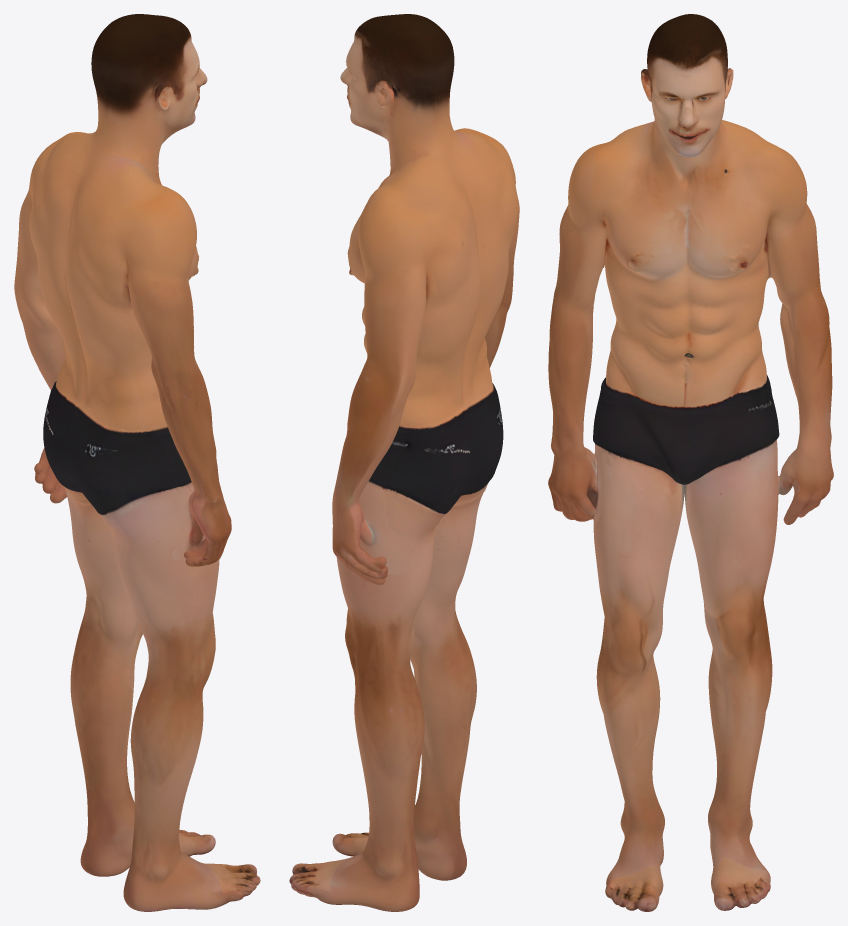
Rendered from TEST_BOI_3D_01.glb.
3 views of the same model, side by side, from view 1: azimuth 30°, elevation 25°; view 2: azimuth 150°, elevation 25°; view 3: azimuth 270°, elevation 25° (orthographic). The views are drawn at different scales.
Visible parts, largest first — view 1: tripo_node_5fda606c; view 2: tripo_node_5fda606c; view 3: tripo_node_5fda606c.
Boxes of the visible parts, box(x1,y1,x2,y2) form: tripo_node_5fda606c: box(14, 14, 260, 911); tripo_node_5fda606c: box(289, 14, 519, 911); tripo_node_5fda606c: box(548, 14, 833, 911).
Bounding box in the file's own units: 0.2104 × 1 × 0.3034.
1 material, 1 textured.
